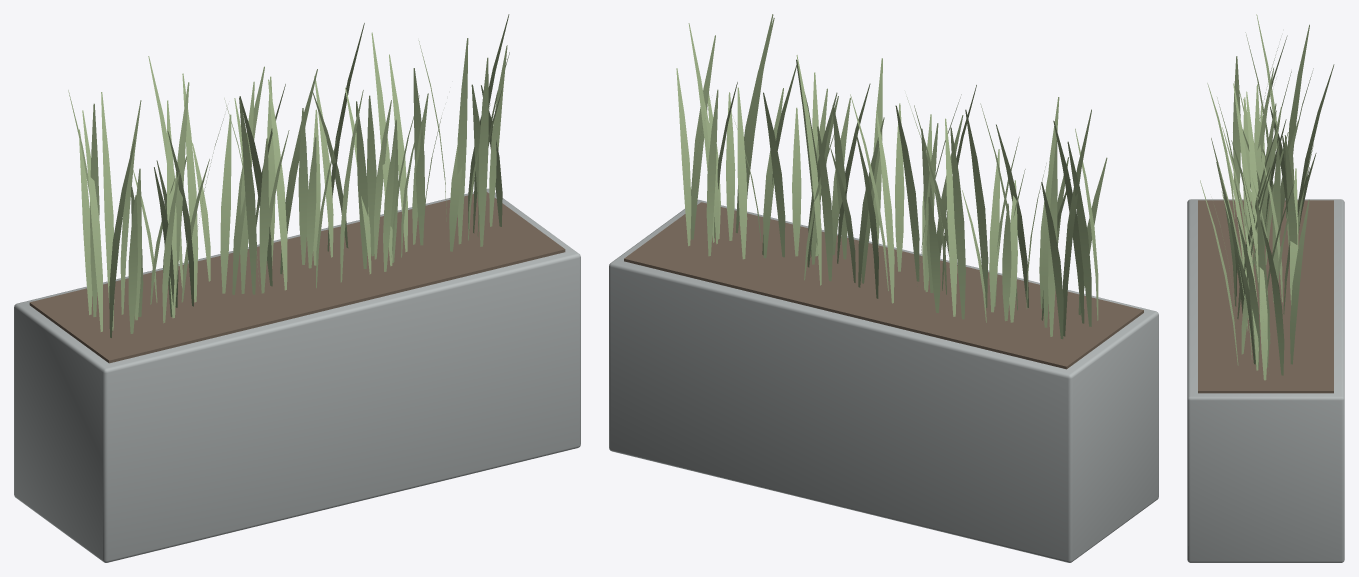
Rendered from sg_planter_box.glb.
3 views of the same model, side by side, from view 1: azimuth 30°, elevation 25°; view 2: azimuth 150°, elevation 25°; view 3: azimuth 270°, elevation 25° (orthographic). The views are drawn at different scales.
Visible parts, largest first — view 1: trough, grass, soil; view 2: trough, grass, soil; view 3: trough, soil, grass.
Part boxes in pixels (box(x1,y1,x2,y2)): trough: box(14, 188, 580, 562); grass: box(68, 14, 509, 337); soil: box(29, 192, 565, 363); trough: box(609, 199, 1158, 562); grass: box(676, 14, 1107, 339); soil: box(624, 202, 1143, 369); trough: box(1187, 199, 1344, 562); soil: box(1198, 200, 1333, 393); grass: box(1200, 14, 1334, 380).
Bounding box in the file's own units: 0.9 × 0.764 × 0.3.
